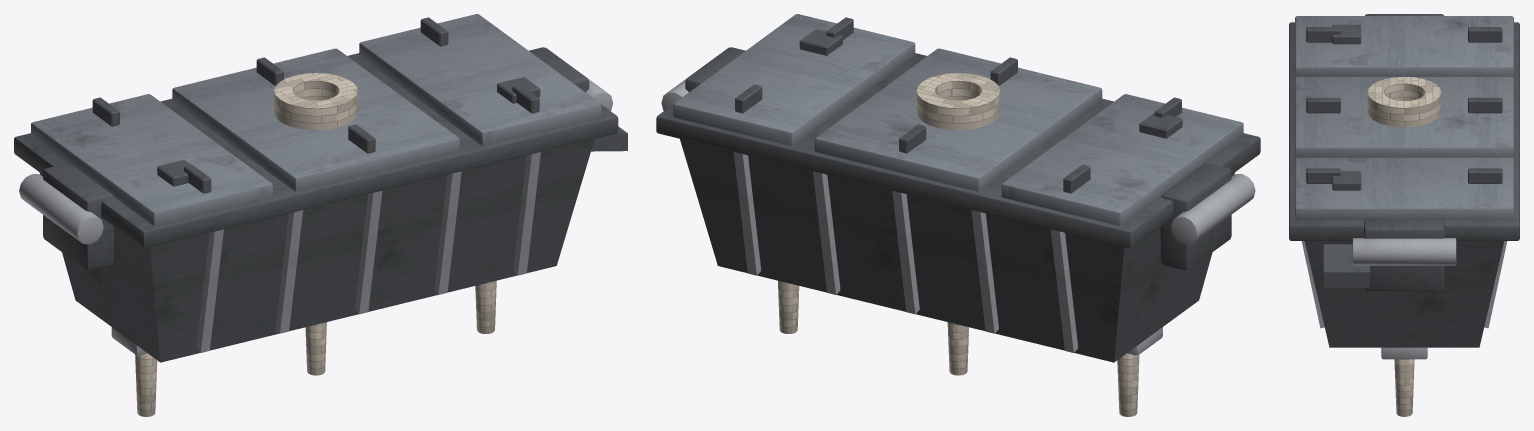
The model's file is tundish.glb.
3 renders of one model, left to right at view 1: azimuth 30°, elevation 25°; view 2: azimuth 150°, elevation 25°; view 3: azimuth 270°, elevation 25°, orthographic. The views are drawn at different scales.
Visible parts, largest first — view 1: Tundish_geo; view 2: Tundish_geo; view 3: Tundish_geo.
Part boxes in pixels (x1,y1,x2,y2): Tundish_geo: (14,14,627,416); Tundish_geo: (656,14,1260,416); Tundish_geo: (1289,14,1519,416).
Bounding box in the file's own units: 4.74 × 2.38 × 2.
Materials: 6 (5 with a texture image).
